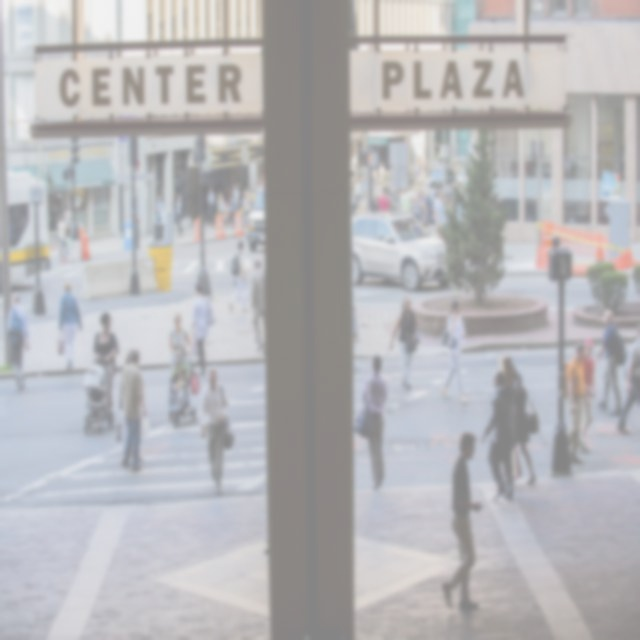pessoa: (438, 430, 488, 618), (480, 353, 520, 501), (353, 354, 388, 492), (590, 307, 628, 417), (119, 348, 152, 474), (199, 367, 231, 496), (387, 292, 422, 392), (440, 300, 470, 406), (566, 340, 591, 466), (614, 320, 640, 437), (55, 278, 83, 370), (514, 372, 536, 485), (190, 280, 215, 376), (7, 290, 30, 392), (578, 338, 597, 455), (92, 310, 120, 387), (118, 346, 136, 464), (228, 240, 251, 314), (250, 257, 266, 357), (168, 312, 193, 372), (600, 140, 628, 180), (408, 187, 428, 226), (240, 177, 264, 209), (563, 144, 585, 177), (174, 193, 188, 239), (432, 186, 443, 242), (456, 191, 471, 232), (57, 213, 69, 264), (422, 188, 436, 230), (362, 162, 380, 192), (174, 366, 187, 406), (434, 191, 444, 241), (398, 185, 412, 213), (207, 186, 216, 229), (228, 192, 238, 230), (64, 230, 75, 264), (222, 185, 231, 225), (353, 176, 363, 212), (174, 183, 186, 213), (241, 193, 250, 230), (378, 185, 390, 212), (230, 184, 240, 212), (64, 202, 74, 230), (156, 194, 164, 224), (445, 194, 455, 218), (216, 191, 225, 216), (370, 192, 380, 214), (415, 156, 423, 182), (378, 161, 386, 184), (431, 155, 442, 171), (452, 179, 464, 192), (422, 158, 430, 174), (420, 188, 428, 202)
